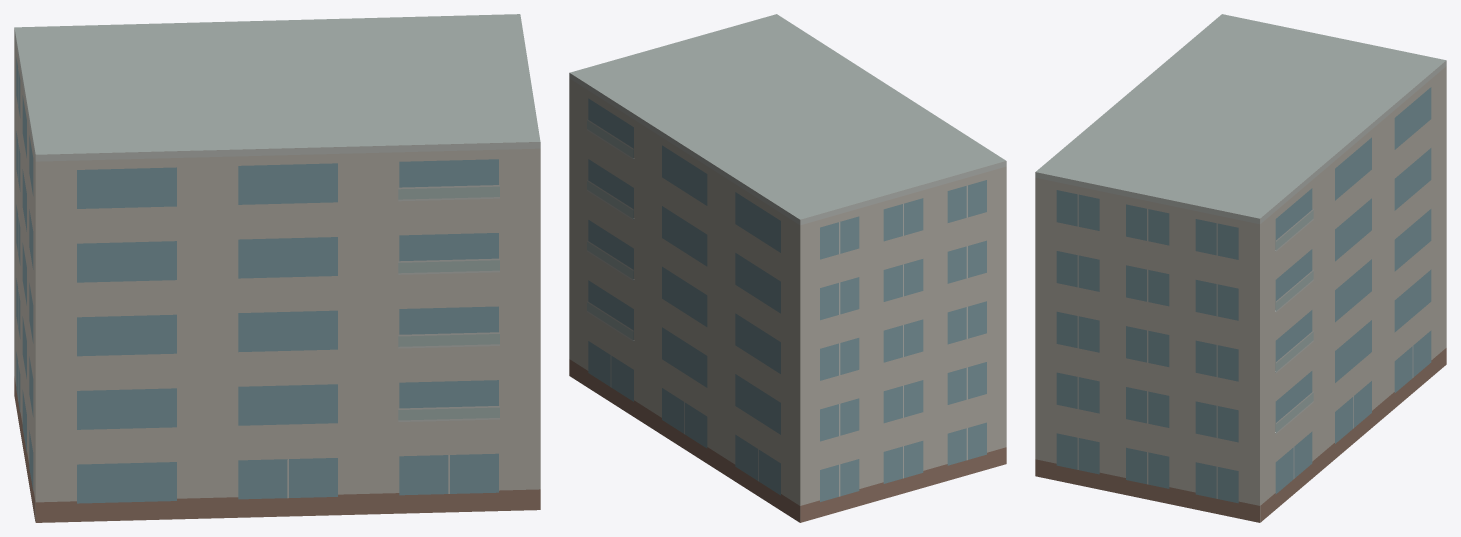
File: survey-upis-33002220.glb
The picture shows the model from 3 angles, left to right: view 1: azimuth 30°, elevation 25°; view 2: azimuth 150°, elevation 25°; view 3: azimuth 270°, elevation 25°; orthographic projection. The views are drawn at different scales.
Parts seen in each view (by area): view 1: survey-upis-33002220.tmp; view 2: survey-upis-33002220.tmp; view 3: survey-upis-33002220.tmp.
Part boxes in pixels (x1,y1,x2,y2): survey-upis-33002220.tmp: [14, 14, 540, 522]; survey-upis-33002220.tmp: [569, 14, 1006, 522]; survey-upis-33002220.tmp: [1035, 14, 1446, 522].
Bounding box in the file's own units: 18.92 × 13.1 × 16.06.
